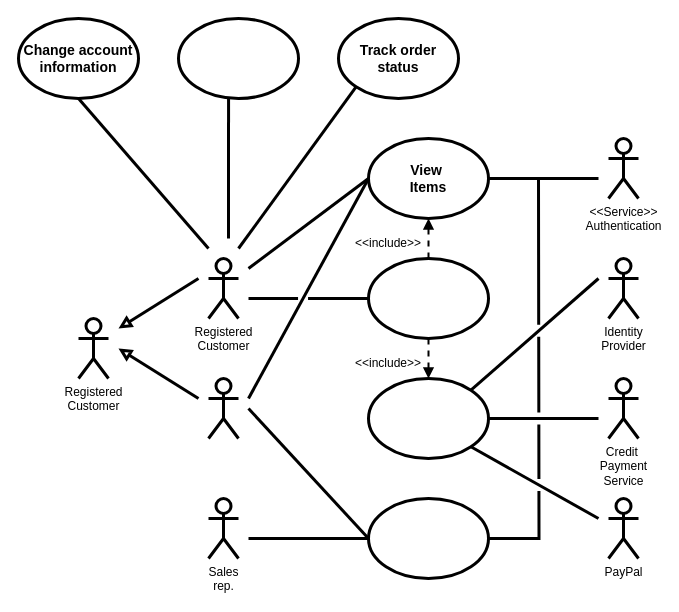
Image size: 679x612. Some labels were removed from this diagram. The shapes that lost their labels are listed below. From the top down, each one's box as (x1, y1, x2, y2) in pixels, then its label:
(176, 16, 300, 100): Change password
(366, 256, 490, 340): Place order
(206, 376, 240, 440): New Customer
(366, 376, 490, 460): Chekout
(366, 496, 490, 580): Create an account
